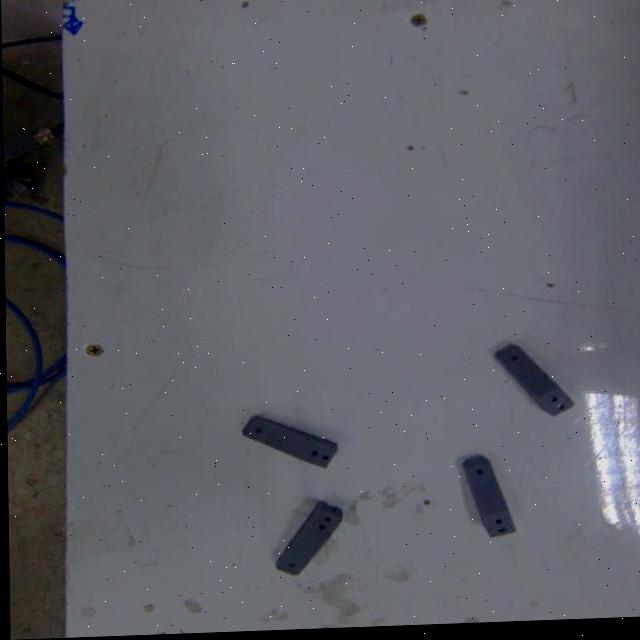grey: (491, 343, 573, 424), (233, 414, 336, 477), (448, 457, 515, 546), (272, 501, 345, 581)
head: (500, 354, 522, 368), (468, 470, 489, 483), (279, 560, 297, 573), (247, 427, 265, 439)
